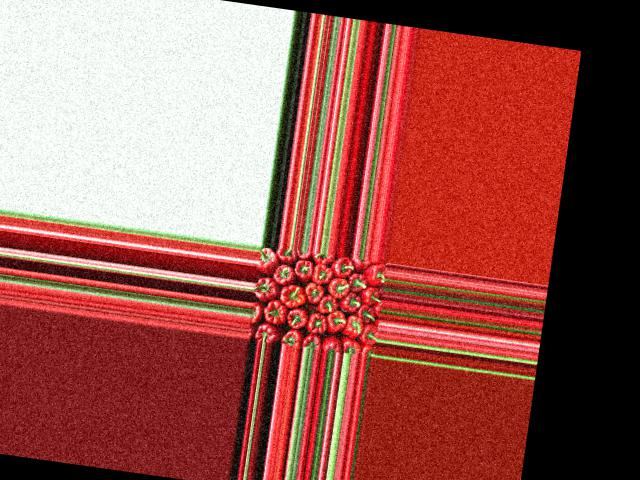bell_pepper: (363, 261, 386, 284)
